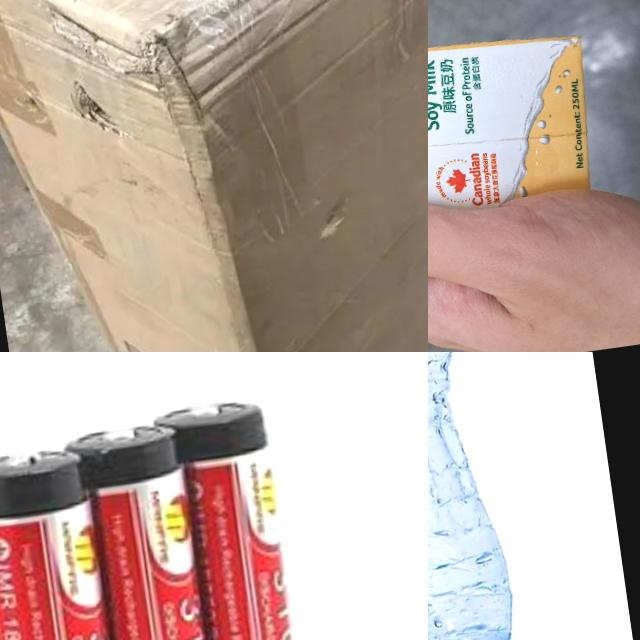bateria: (156, 392, 313, 640), (70, 414, 237, 640), (0, 437, 141, 640)
caixinha: (428, 11, 603, 252)
garrafa plástica: (428, 352, 522, 640)
papelão: (0, 0, 428, 352)
